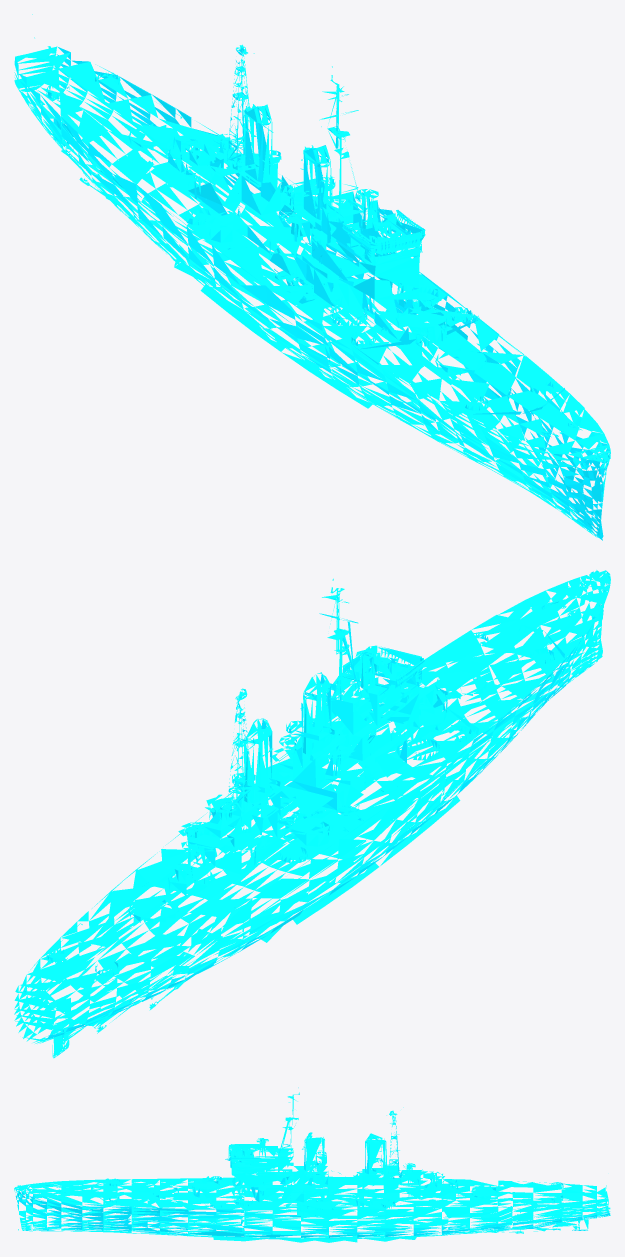
The model's file is Gibraltar.glb.
The picture shows the model from 3 angles, top to bottom: view 1: azimuth 30°, elevation 25°; view 2: azimuth 150°, elevation 25°; view 3: azimuth 270°, elevation 25°; orthographic projection. The views are drawn at different scales.
Size of the model in its own units: 1.92 by 3.91 by 14.71.
